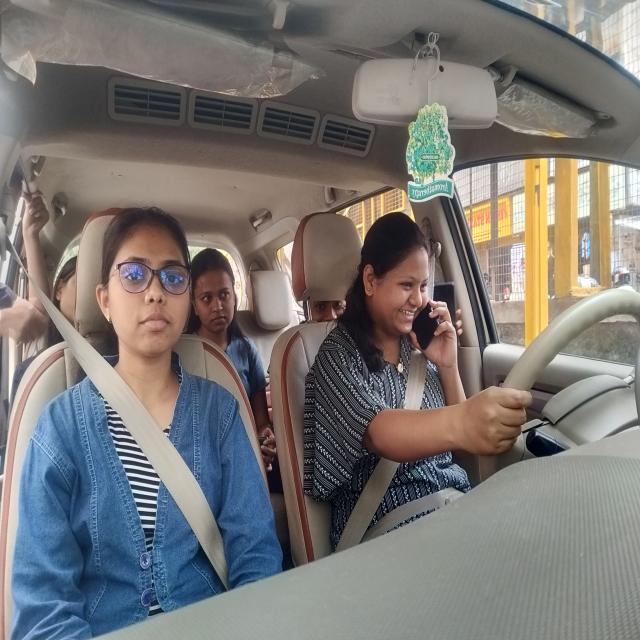mobile: (412, 298, 439, 353)
person: (96, 206, 195, 376), (358, 210, 431, 342), (190, 247, 240, 335), (55, 256, 79, 335), (310, 294, 346, 326)
